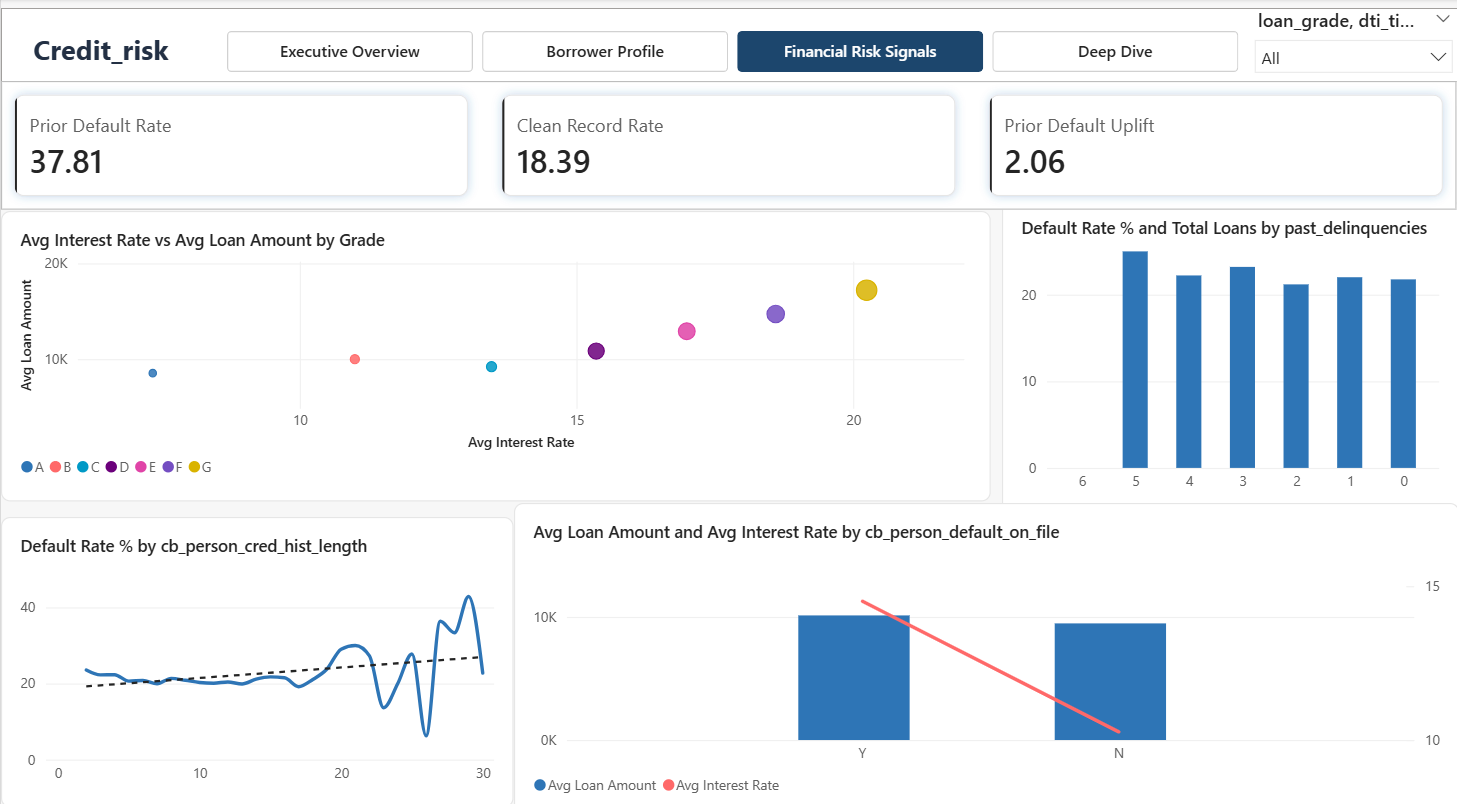

This screenshot's page, from the dashboard's own definition file:
{"tool":"powerbi","page":{"name":"Financial Risk Signals","canvas":[1280,720],"ordinal":2},"visuals":[{"type":"shape","box":[0,8.1,1280,65],"z":0},{"type":"textbox","box":[15,27.3,145.6,37.9],"z":1000},{"type":"pageNavigator","box":[198.4,28.1,889.5,36.9],"z":2000},{"type":"slicer","fields":{"Values":["credit_risk_cleaned.loan_grade","credit_risk_cleaned.dti_tier","credit_risk_cleaned.cb_person_default_on_file"]},"box":[1095.8,7.9,184.4,65],"z":3000},{"type":"clusteredColumnChart","fields":{"Category":["credit_risk_cleaned.past_delinquencies"],"Y":["credit_risk_cleaned.Default Rate %"]},"box":[879.2,175.2,400.8,278.1],"z":5000},{"type":"cardVisual","fields":{"Data":["credit_risk_cleaned.Prior Default Rate","credit_risk_cleaned.Clean Record Rate","credit_risk_cleaned.Prior Default Uplift"]},"box":[0,72.3,1280,113.9],"z":6000},{"type":"lineClusteredColumnComboChart","fields":{"Category":["credit_risk_cleaned.cb_person_default_on_file"],"Y":["credit_risk_cleaned.Avg Loan Amount"],"Y2":["credit_risk_cleaned.Avg Interest Rate"]},"box":[450,442.4,830,278.1],"z":7000},{"type":"scatterChart","title":"Avg Interest Rate vs Avg Loan Amount by Grade","fields":{"Series":["credit_risk_cleaned.loan_grade"],"Size":["credit_risk_cleaned.Default Rate %"],"X":["credit_risk_cleaned.Avg Interest Rate"],"Y":["credit_risk_cleaned.Avg Loan Amount"]},"box":[0,186.1,869.4,255.1],"z":9001},{"type":"lineChart","fields":{"Category":["credit_risk_cleaned.cb_person_cred_hist_length"],"Y":["credit_risk_cleaned.Default Rate %"]},"box":[0,454.5,450,255],"z":9002}]}

Visuals, with their boxes in screenshot pixels (x1, y1, x2, y2), scaled from the page's 1280x720 canvas onto the 1457x804 screenshot:
shape: (0,9,1456,82)
textbox: (17,30,183,73)
pageNavigator: (226,31,1238,73)
slicer - credit_risk_cleaned.loan_grade x credit_risk_cleaned.dti_tier: (1247,9,1456,81)
clusteredColumnChart - credit_risk_cleaned.past_delinquencies x credit_risk_cleaned.Default Rate %: (1001,196,1456,506)
cardVisual - credit_risk_cleaned.Prior Default Rate x credit_risk_cleaned.Clean Record Rate: (0,81,1456,208)
lineClusteredColumnComboChart - credit_risk_cleaned.cb_person_default_on_file x credit_risk_cleaned.Avg Loan Amount: (512,494,1456,803)
"Avg Interest Rate vs Avg Loan Amount by Grade" scatterChart: (0,208,990,493)
lineChart - credit_risk_cleaned.cb_person_cred_hist_length x credit_risk_cleaned.Default Rate %: (0,508,512,792)
